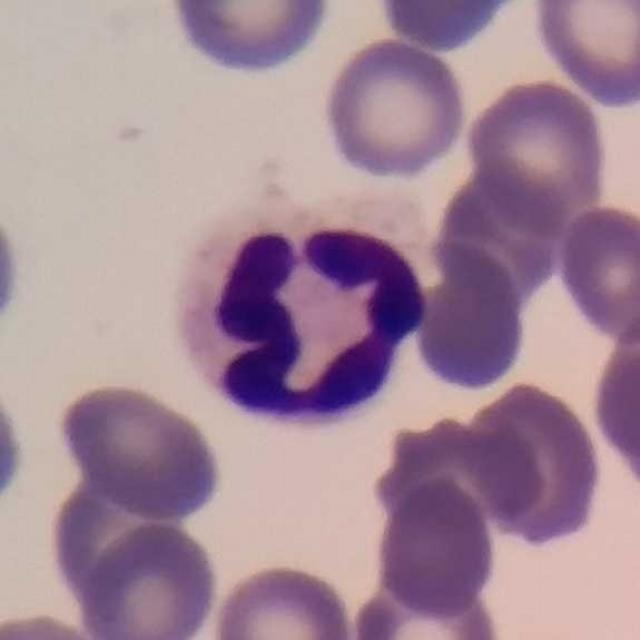Neutrophil: (162, 202, 440, 440)
RBC: (52, 379, 228, 523), (464, 376, 608, 551), (462, 74, 612, 230), (318, 34, 470, 182), (373, 421, 542, 550), (431, 166, 572, 310), (33, 471, 180, 600), (411, 240, 531, 396), (371, 476, 501, 618), (74, 517, 222, 640), (164, 0, 338, 80), (554, 200, 640, 348), (527, 0, 640, 112), (207, 558, 360, 640), (349, 572, 506, 640), (370, 0, 538, 55), (589, 331, 640, 494), (0, 376, 29, 521), (0, 197, 27, 345), (0, 607, 118, 640)
